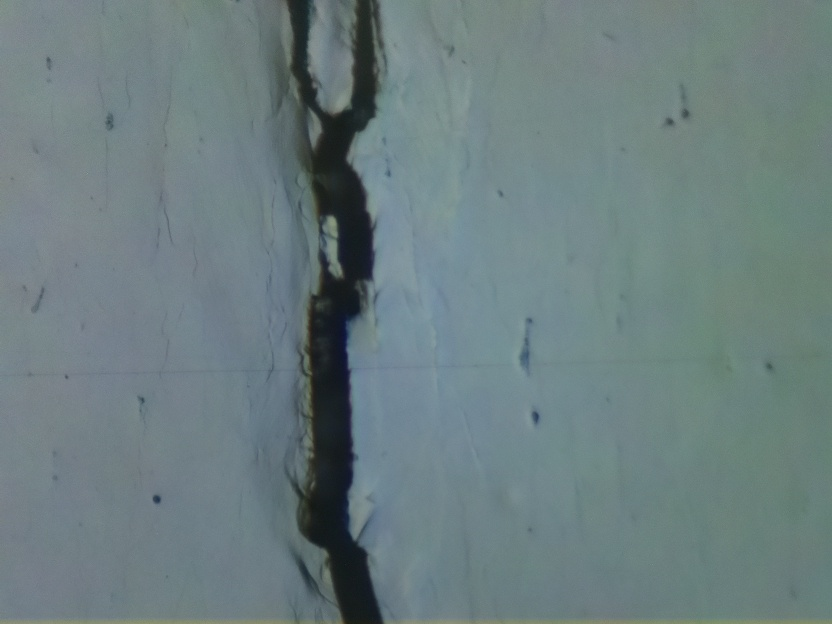crack: (282, 0, 385, 624)
